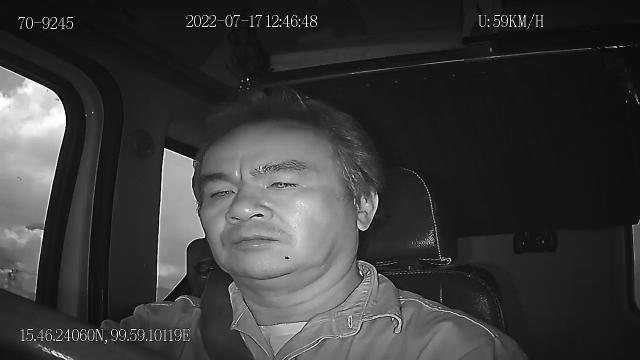SafeDriving: (260, 169, 310, 197), (201, 178, 241, 207)
Seatbelt: (198, 268, 256, 360)
